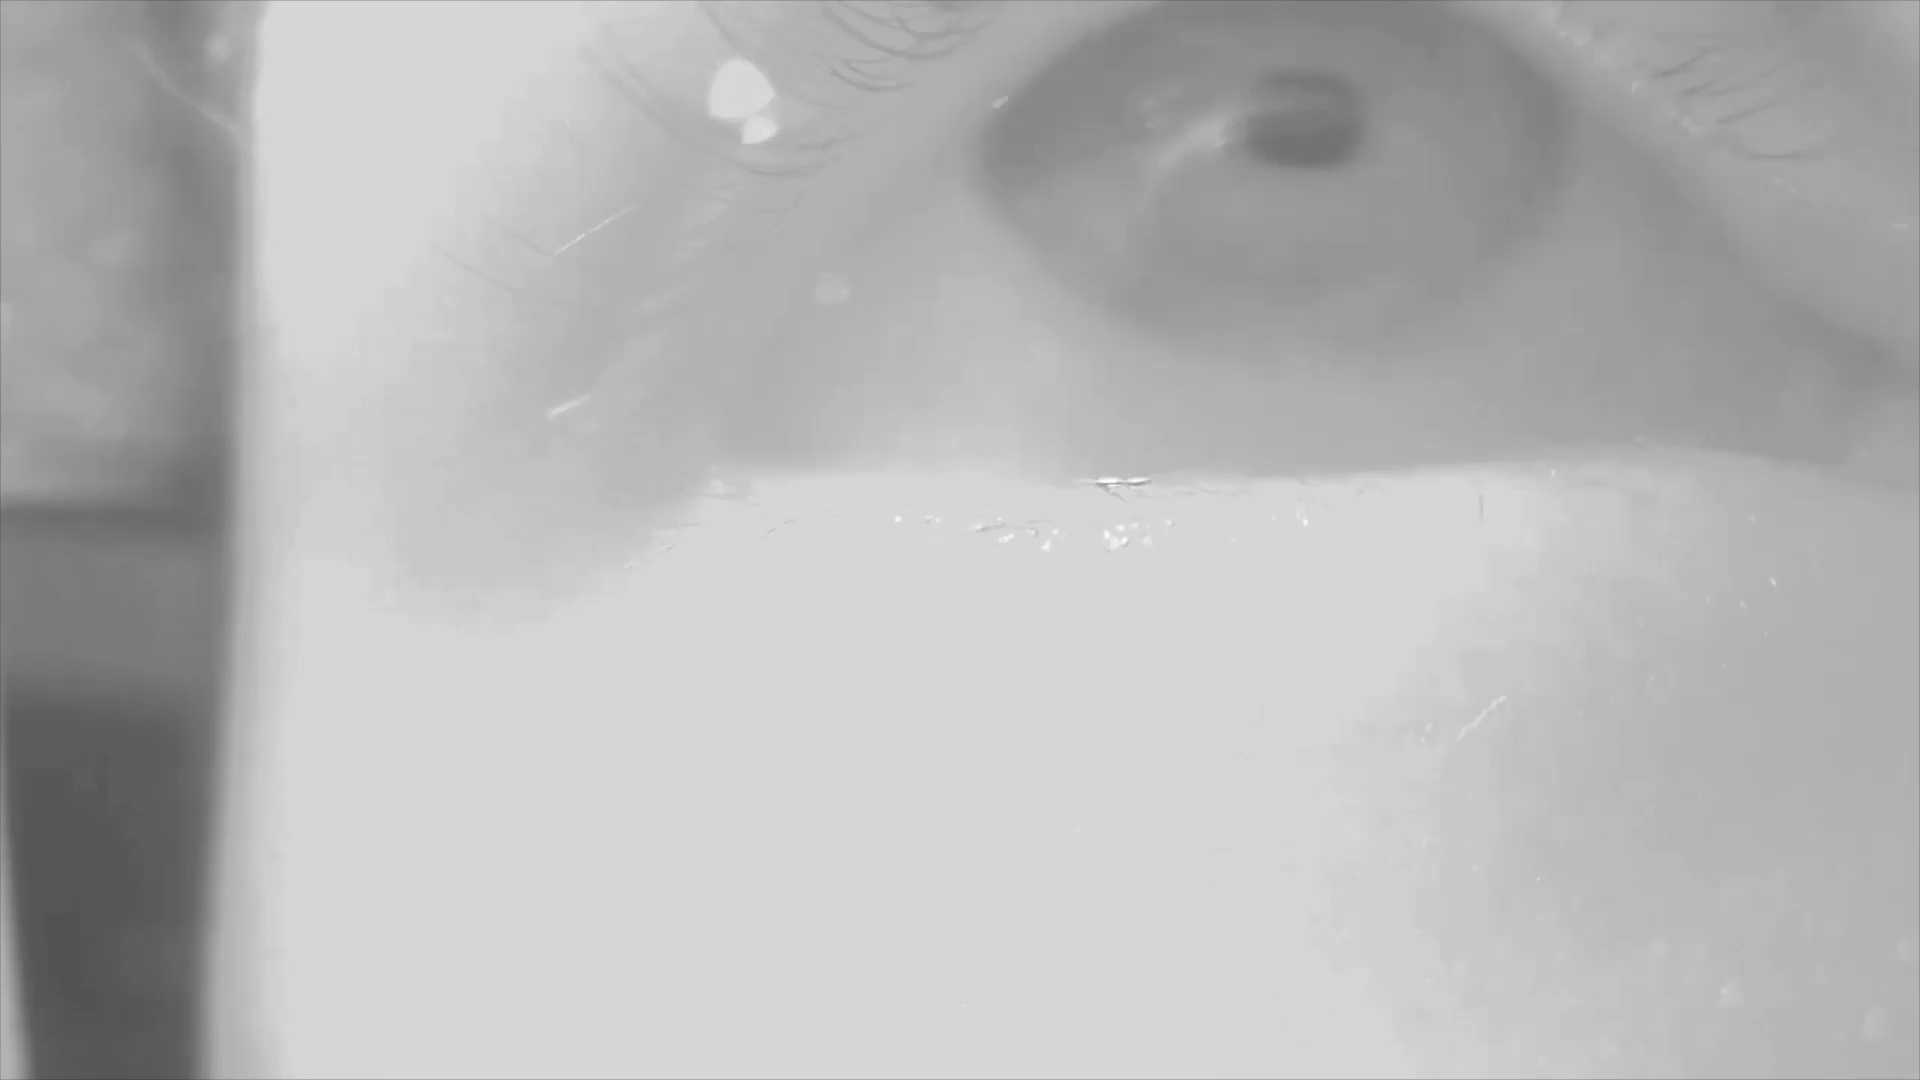pupil: (1224, 58, 1370, 168)
